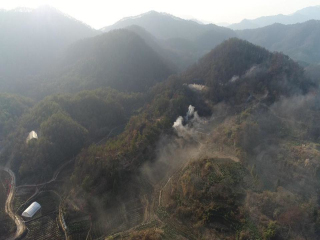smoke: (172, 104, 206, 138), (181, 80, 217, 96)
